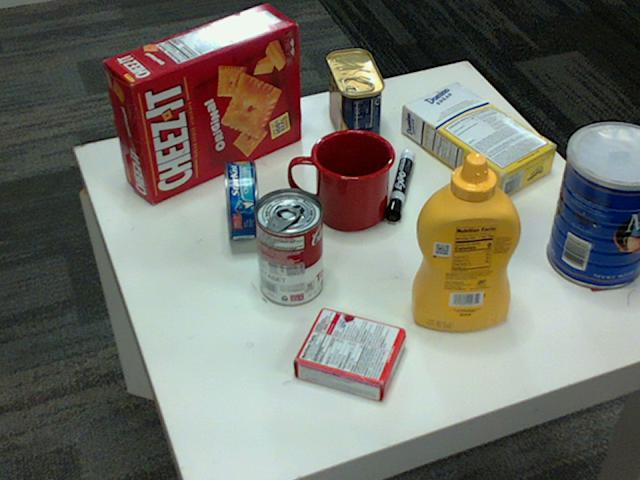cracker_box: (103, 1, 300, 201)
gelatin_box: (291, 308, 403, 403)
large_marker: (384, 152, 415, 221)
master_chef_can: (547, 122, 639, 289)
mug: (289, 127, 395, 229)
mustard_bottle: (411, 153, 521, 330)
potted_meat_can: (324, 50, 382, 148)
sugar_box: (402, 82, 558, 200)
tomato_soup_can: (253, 188, 323, 305)
tuna_fish_can: (222, 160, 259, 240)
